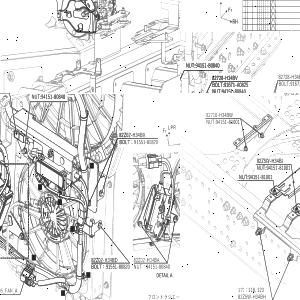PartNumber: (118, 131, 146, 138), (256, 157, 284, 164), (40, 93, 66, 100), (133, 257, 160, 263), (91, 256, 118, 262), (133, 139, 160, 145), (206, 112, 233, 118), (195, 62, 221, 68), (212, 75, 238, 81), (224, 82, 250, 88), (105, 264, 130, 270), (146, 264, 171, 270), (266, 165, 291, 171), (248, 174, 273, 180), (237, 294, 266, 299), (216, 119, 240, 125), (278, 73, 300, 79), (221, 88, 246, 93), (290, 81, 300, 86)
